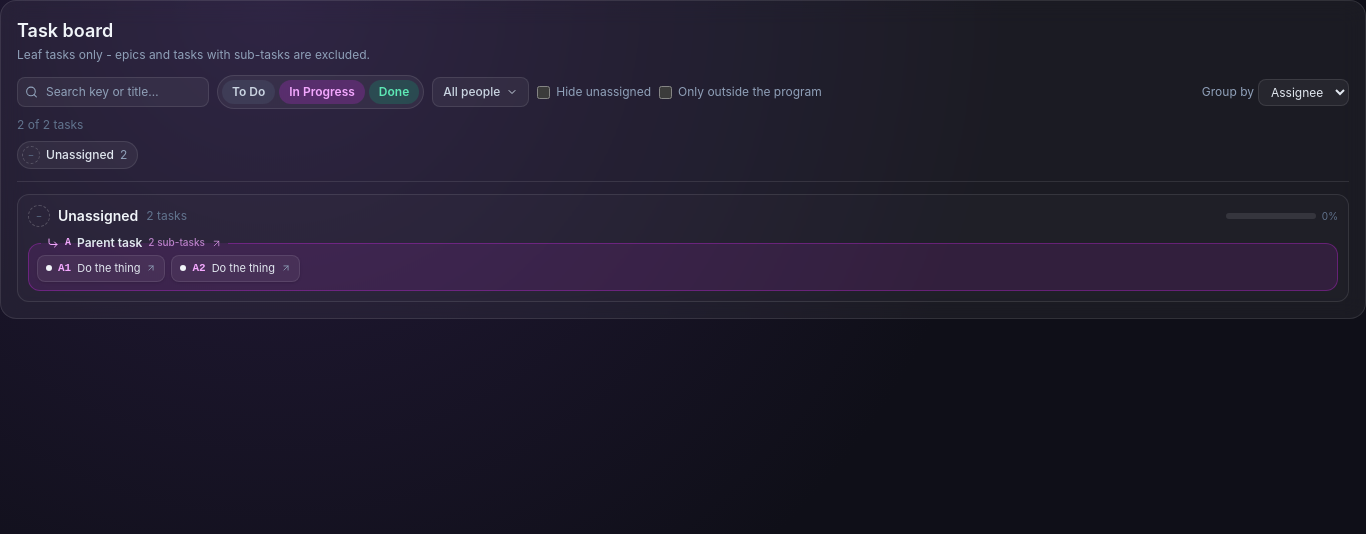
Scenario: AtlasTaskBoard › groups a task's visible sub-tasks into a fieldset within its epic's card grid, when grouped by epic
Expected: the text "A1" is shown, [58,260,71,276]
Select "Epic" in the dropdown named "Group tasks by": (1304, 92) [1258,78,1349,106]
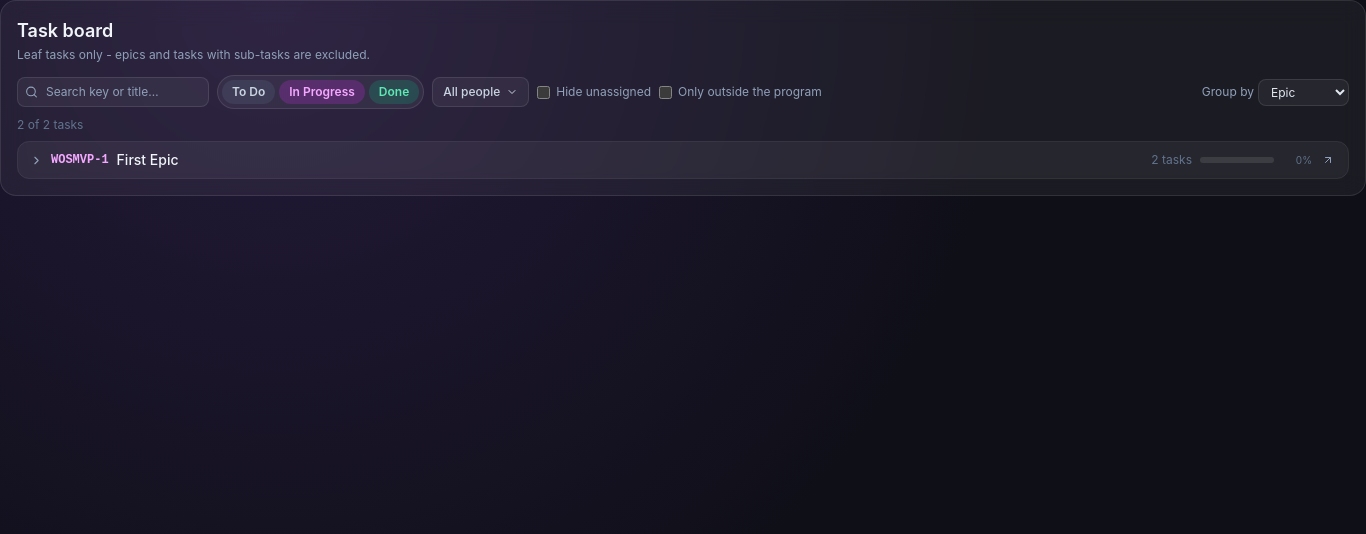
Click the text "First Epic": (148, 160) [117,151,178,168]
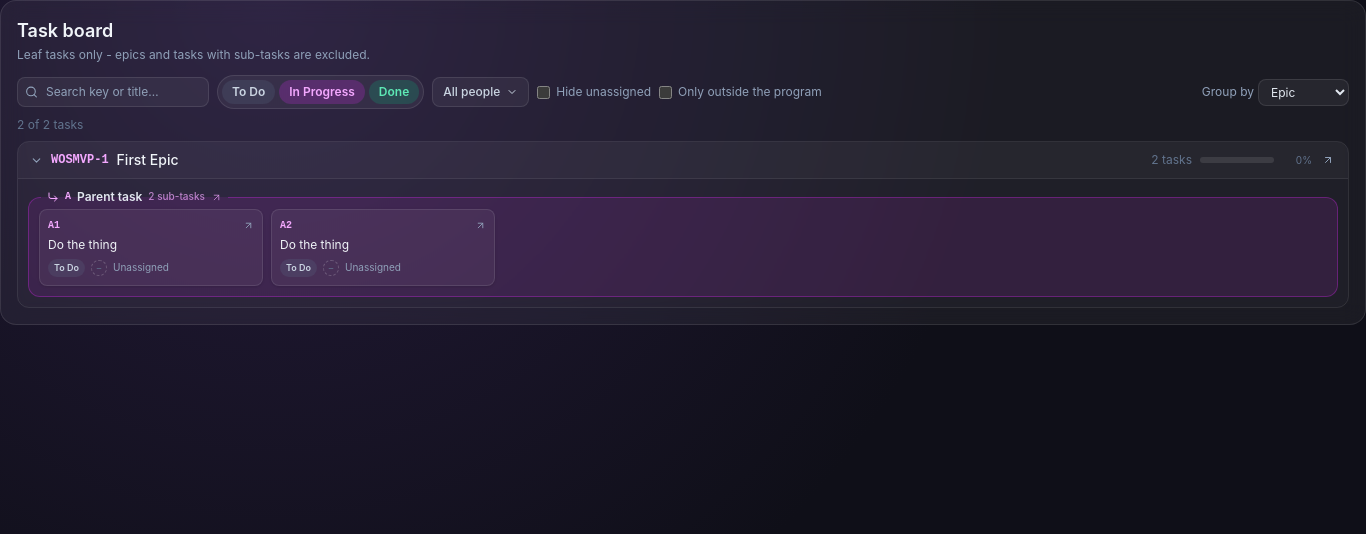
Result: the text "A1" is shown at [48,218,60,233]
Result: the text "A2" is shown at [280,218,292,233]
Result: the text "Parent task" is shown at [77,189,142,204]
